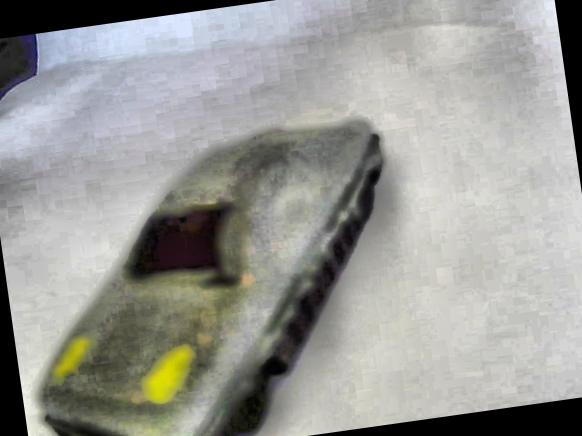normal_car: (37, 121, 383, 436)
